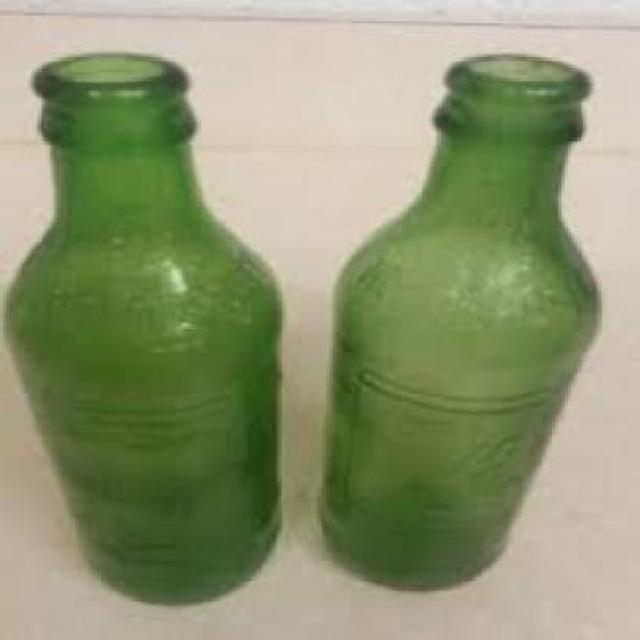kaca: (317, 52, 601, 591), (3, 52, 280, 603)
